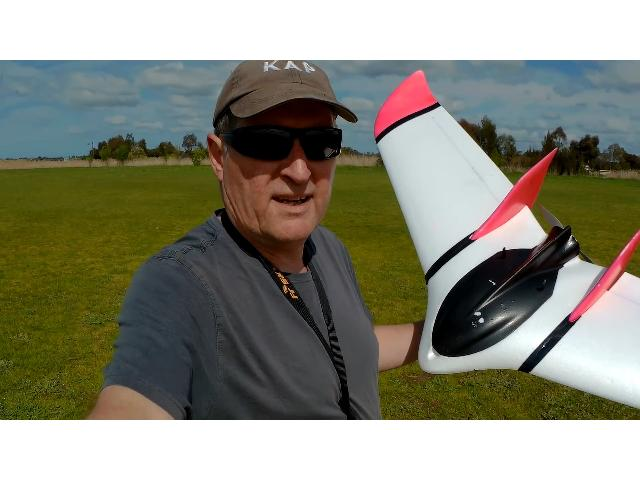Anti-Drone: (348, 78, 640, 418)
